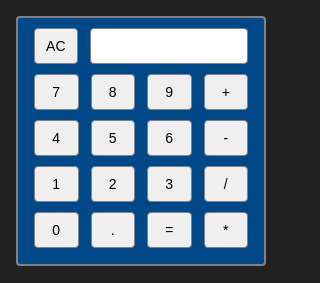
Test: Calculator › Should show 78 in display when click button 7 and button 8
The width and height of the screenshot is (320, 283).
Click the button with test id "btn-7": (56, 92) [34,74,78,110]
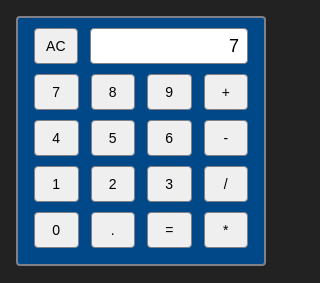
Click the button with test id "btn-8": (113, 92) [90,74,135,110]
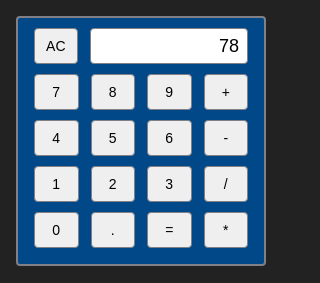
Now the text with test id "display" reads "78", box [219,36,239,56]
